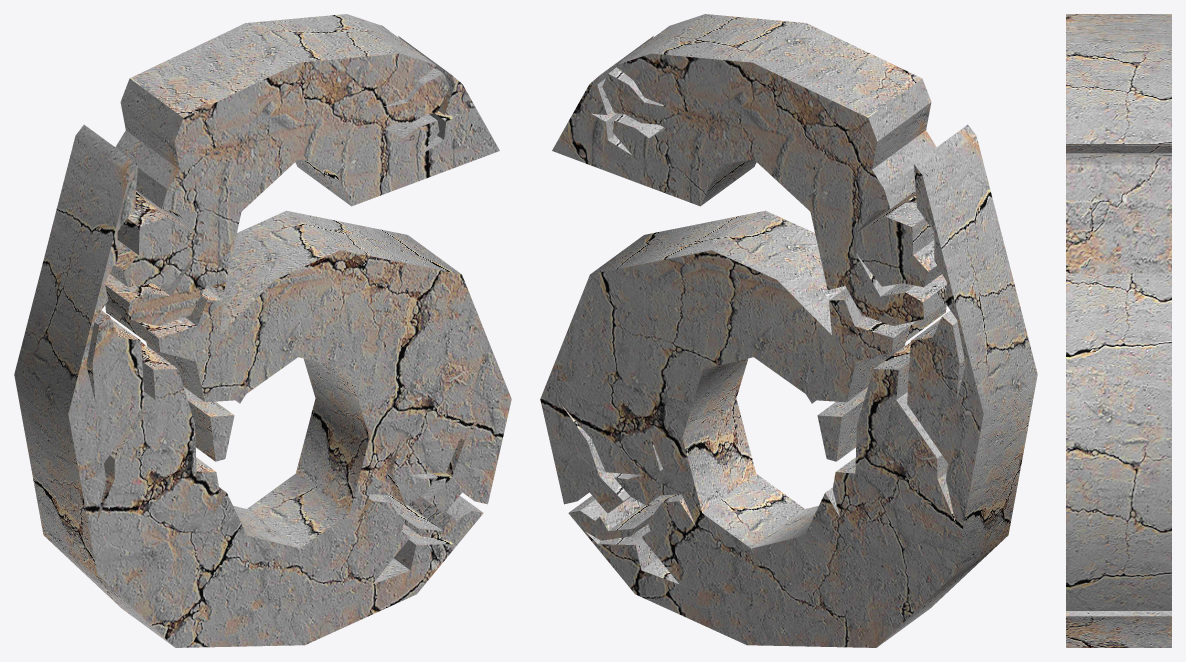
3 views of the same model, side by side, from view 1: azimuth 30°, elevation 25°; view 2: azimuth 150°, elevation 25°; view 3: azimuth 270°, elevation 25° (orthographic). The views are drawn at different scales.
Visible parts, largest first — view 1: 6; view 2: 6; view 3: 6.
Part boxes in pixels (box(x1,y1,x2,y2)): 6: box(14, 14, 511, 647); 6: box(540, 14, 1037, 647); 6: box(1066, 14, 1171, 647).
Size of the model in its own units: 71.06 by 89.42 by 15.
Materials: 1 (1 with a texture image).
